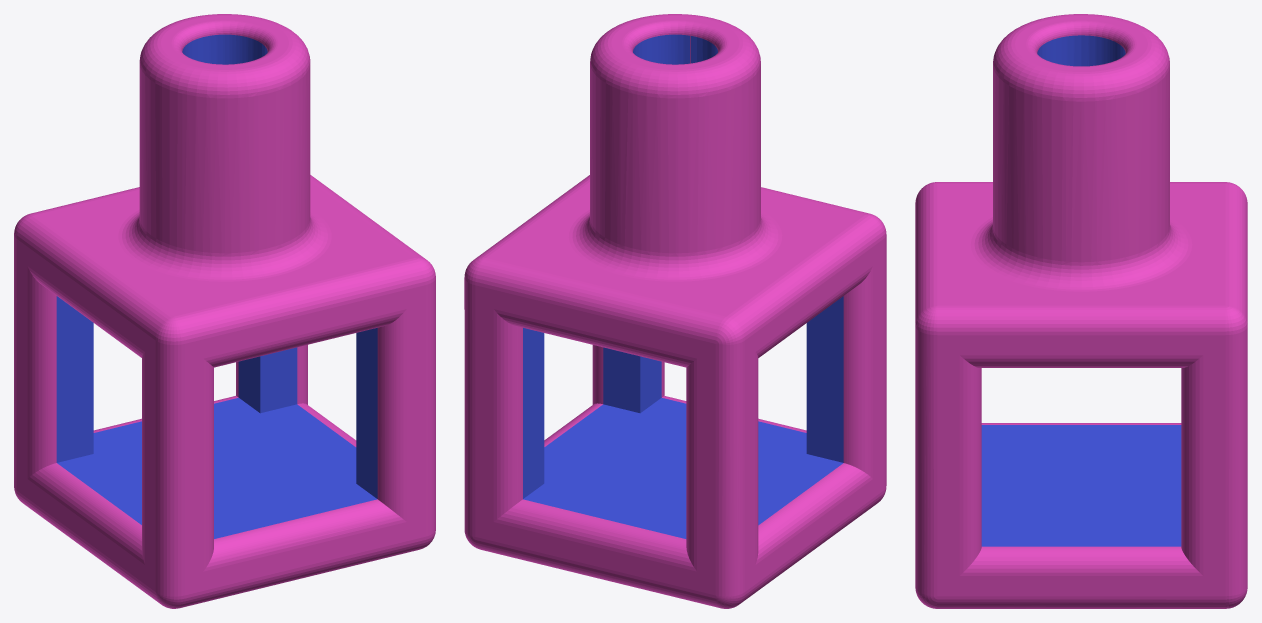
File: csap_v2.dae
The picture shows the model from 3 angles, left to right: view 1: azimuth 30°, elevation 25°; view 2: azimuth 150°, elevation 25°; view 3: azimuth 270°, elevation 25°; orthographic projection. The views are drawn at different scales.
Visible parts, largest first — view 1: csap; view 2: csap; view 3: csap.
Part boxes in pixels (x1=…): csap: x1=14, y1=14, x2=435, y2=608; csap: x1=464, y1=14, x2=886, y2=608; csap: x1=915, y1=14, x2=1247, y2=608.
Bounding box in the file's own units: 0.03 × 0.03 × 0.05.
